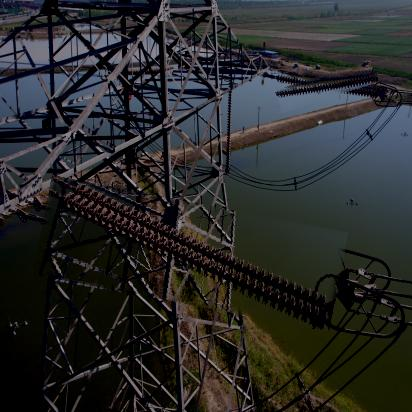insulator: (38, 190, 346, 319), (277, 67, 380, 107)
